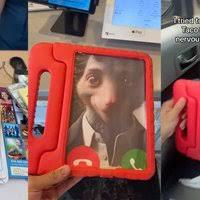mouse-pay: (73, 51, 147, 171)
